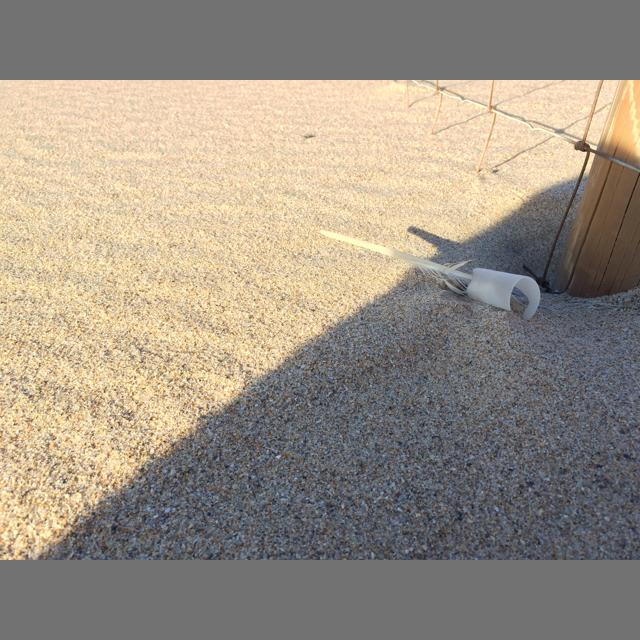litter: (466, 268, 541, 321)
